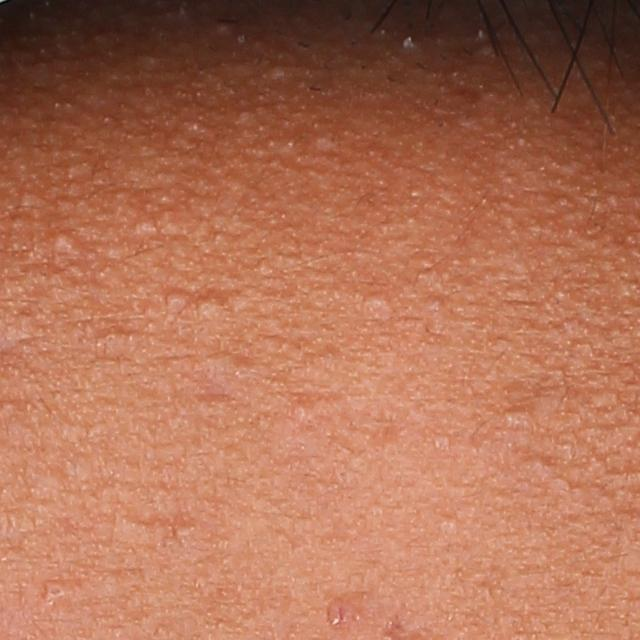comedo: (495, 401, 531, 429), (152, 288, 194, 310), (50, 226, 80, 253), (368, 289, 396, 316), (41, 580, 69, 606), (199, 291, 224, 317)
